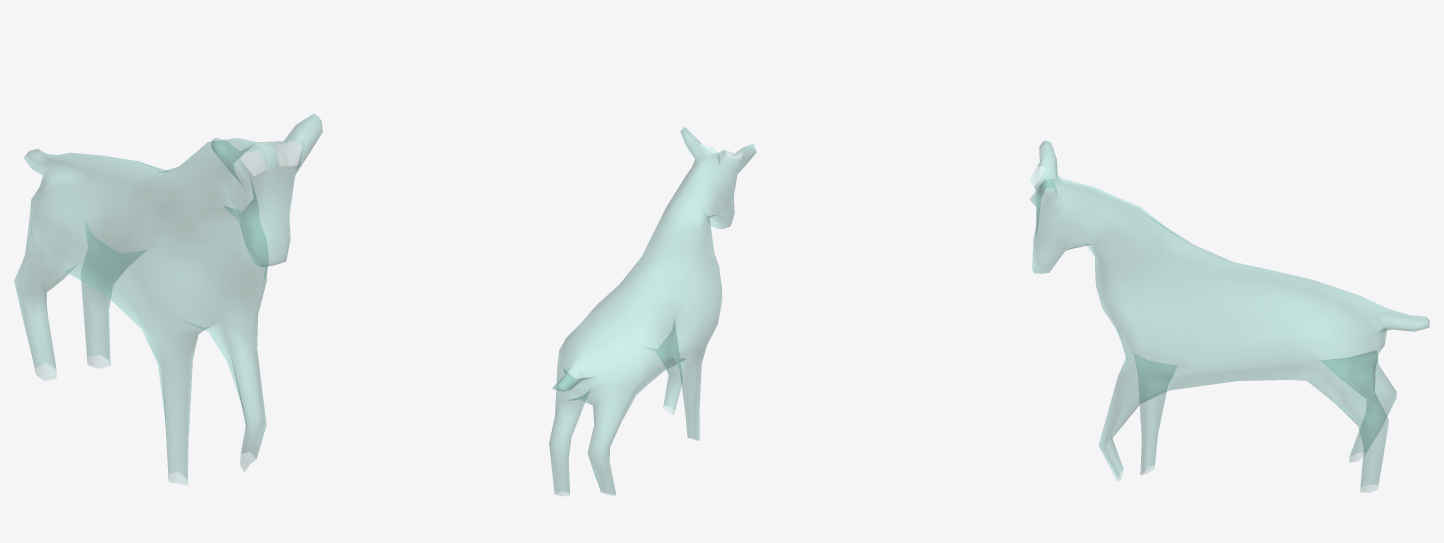
The model's file is drorania_creature.obj.
3 renders of one model, left to right at view 1: azimuth 30°, elevation 25°; view 2: azimuth 150°, elevation 25°; view 3: azimuth 270°, elevation 25°, orthographic. The views are drawn at different scales.
Parts seen in each view (by area): view 1: drorania_creature; view 2: drorania_creature; view 3: drorania_creature.
Part boxes in pixels (x1=…): drorania_creature: x1=14, y1=113, x2=322, y2=484; drorania_creature: x1=549, y1=127, x2=756, y2=495; drorania_creature: x1=1029, y1=140, x2=1429, y2=492.
Bounding box in the file's own units: 37.48 × 55.24 × 56.94.
1 material, 1 textured.
